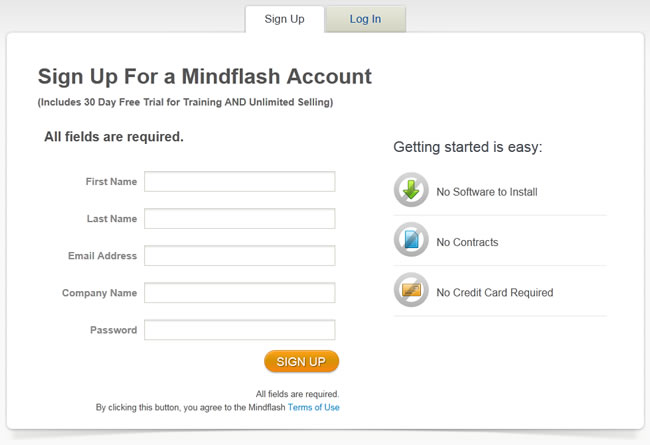_form_: (1, 1, 416, 416)
button: (265, 349, 339, 372)
field: (141, 170, 336, 193), (142, 207, 337, 230), (142, 318, 335, 341), (142, 282, 335, 304), (142, 244, 337, 265)
field_with_label: (62, 280, 336, 306), (65, 242, 338, 268), (86, 169, 337, 195), (87, 206, 338, 232), (85, 317, 336, 343)
